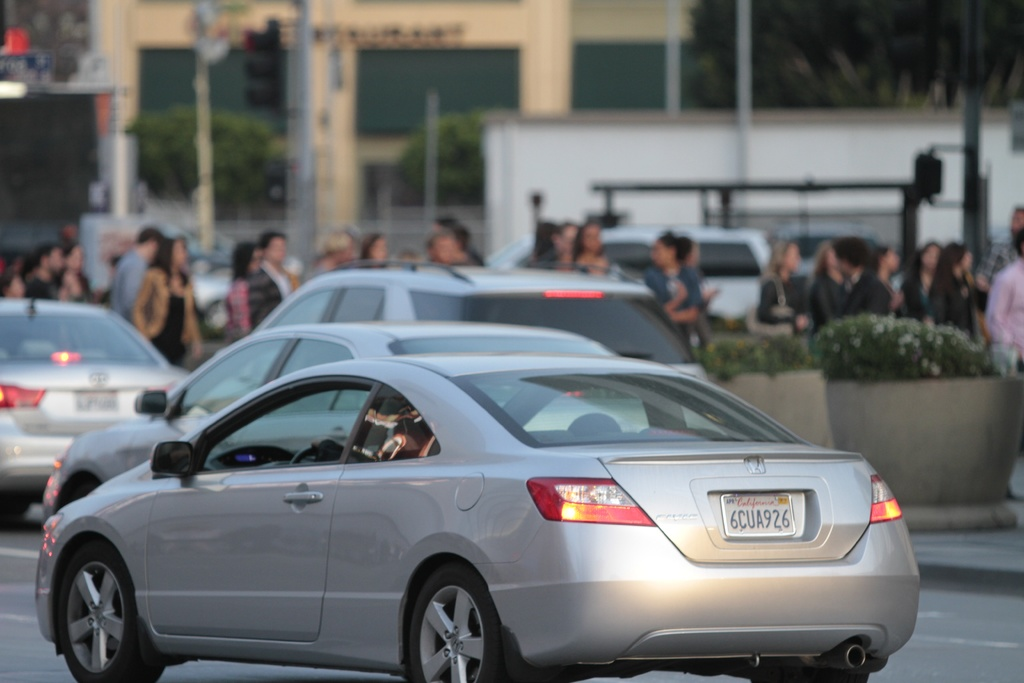person: (303, 229, 359, 282)
